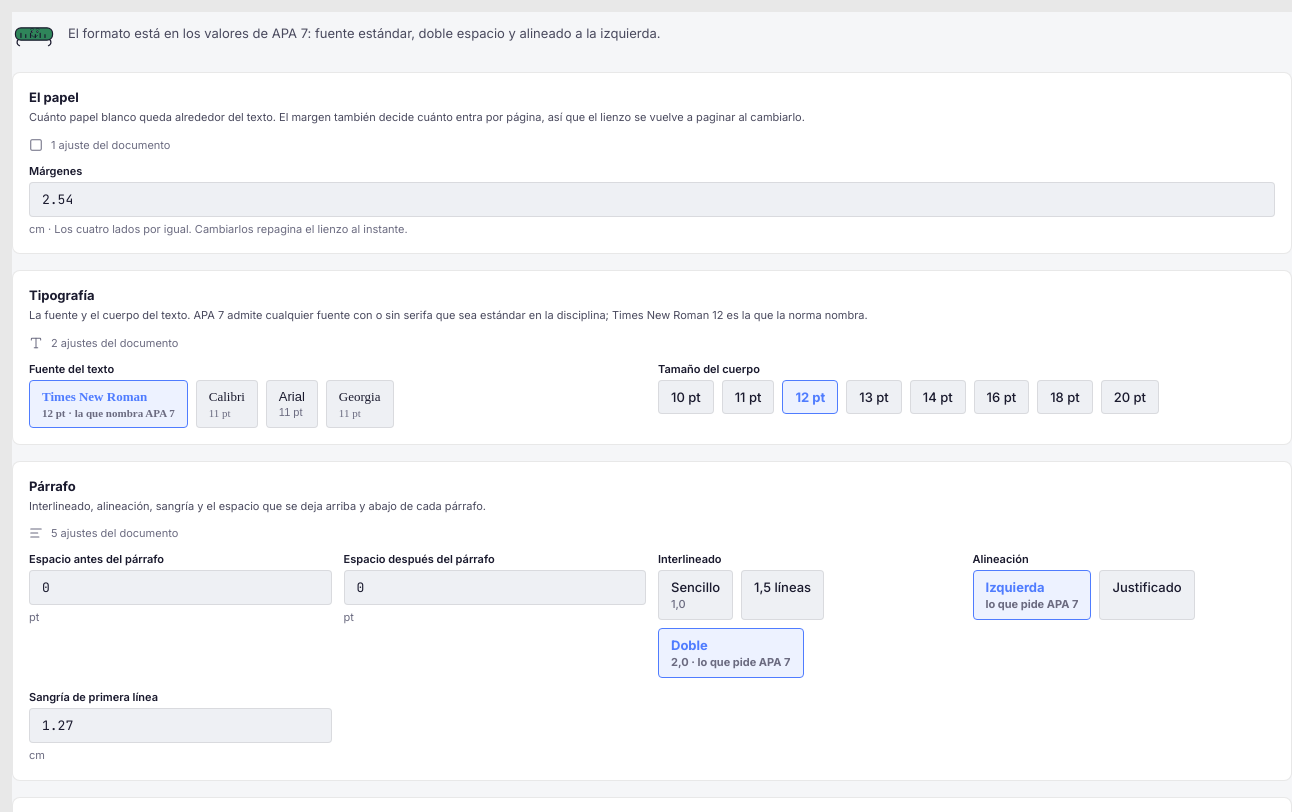
Test: Formato — sin documento no hay formato que ajustar › con documento, la cara de la mascota sale de si el formato se sale de APA
expect the icon with class "editorial-mascot-expression-happy" is shown: met, box [12, 12, 56, 56]
Click the button "Sencillo 1,0". click: click(696, 595)
box: [658, 570, 733, 620]
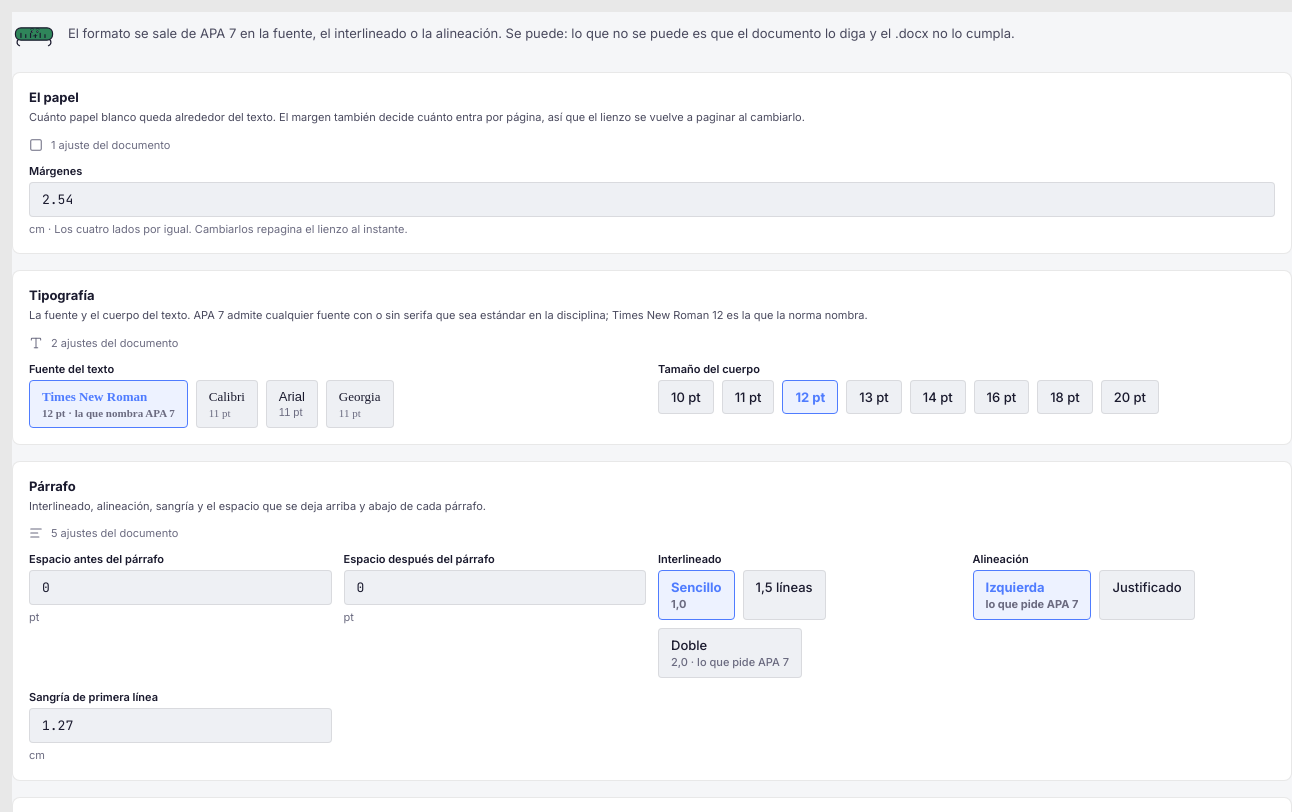
expect the icon with class "editorial-mascot-expression-happy" is shown: met, box [12, 12, 56, 56]
expect the text with test id "formato-estado" shows "se sale de APA 7": met, box [68, 25, 1015, 41]
